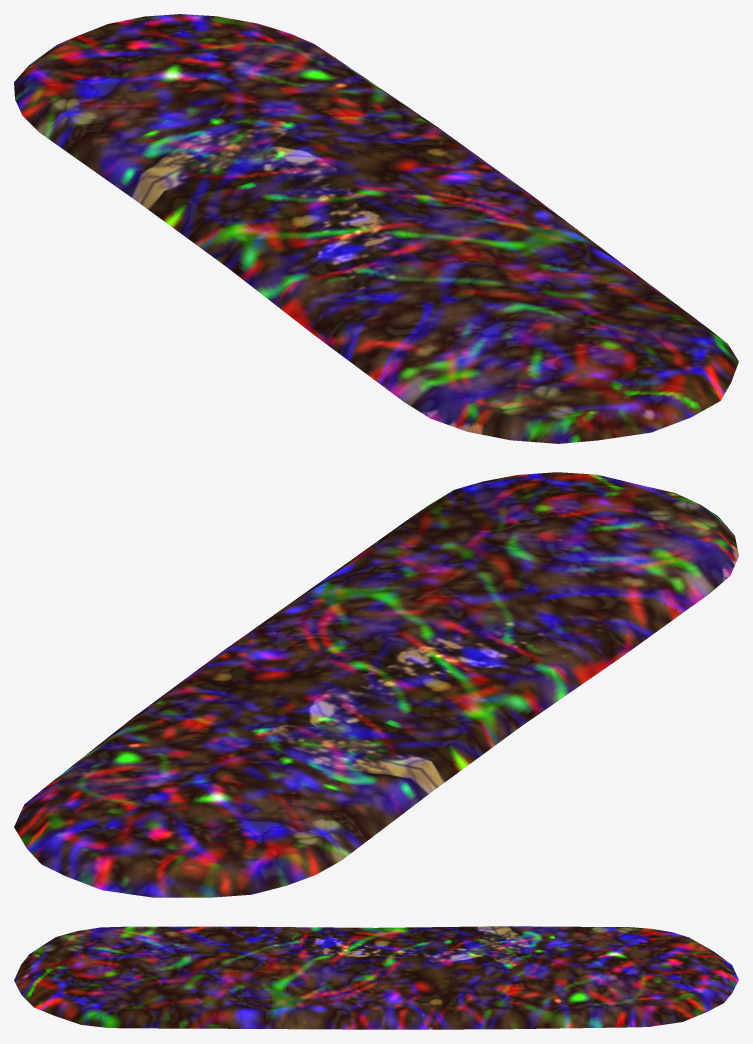
Rendered from flower_bed_short_SM.fbx.
The picture shows the model from 3 angles, top to bottom: view 1: azimuth 30°, elevation 25°; view 2: azimuth 150°, elevation 25°; view 3: azimuth 270°, elevation 25°; orthographic projection. The views are drawn at different scales.
Parts seen in each view (by area): view 1: flower_bed_short_SM_LOD0; view 2: flower_bed_short_SM_LOD0; view 3: flower_bed_short_SM_LOD0.
Part boxes in pixels (left/top/right/bottom): flower_bed_short_SM_LOD0: left=14, top=14, right=738, bottom=443; flower_bed_short_SM_LOD0: left=14, top=472, right=738, bottom=897; flower_bed_short_SM_LOD0: left=14, top=926, right=738, bottom=1029.
Bounding box in the file's own units: 165 × 512 × 15.54.
Materials: 1 (1 with a texture image).
